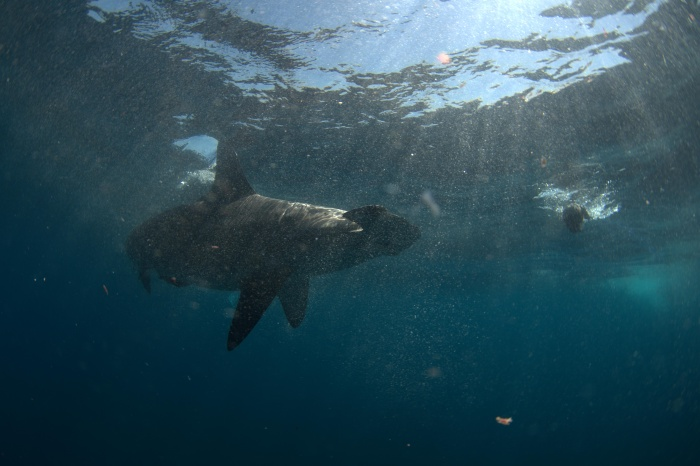Hammer: (101, 137, 455, 377)
